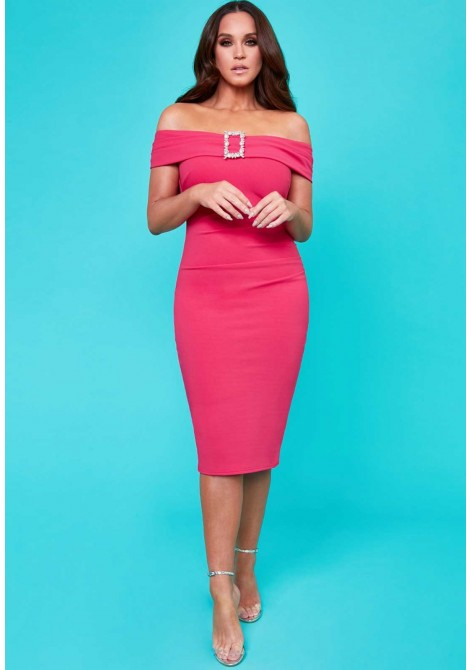C_dress: (135, 126, 331, 485)
